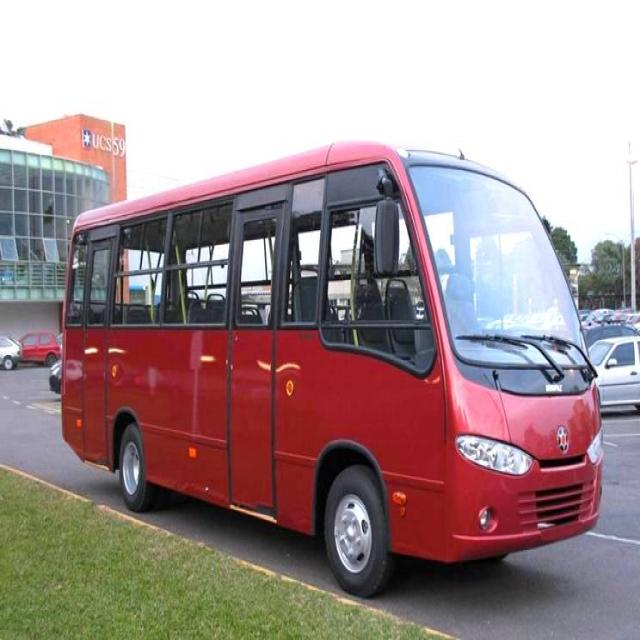bus: (52, 135, 610, 599)
